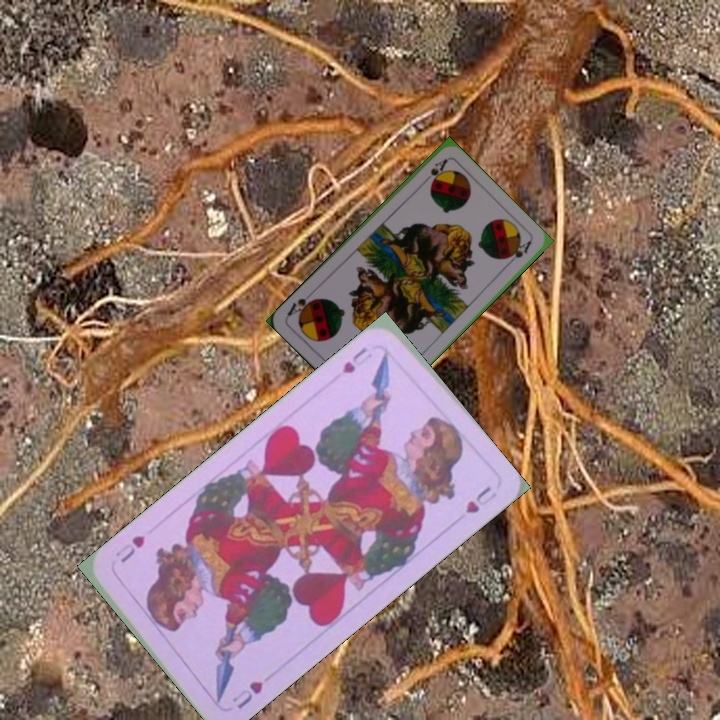HU: (227, 677, 266, 712), (338, 343, 376, 377)
SA: (426, 155, 450, 186)
